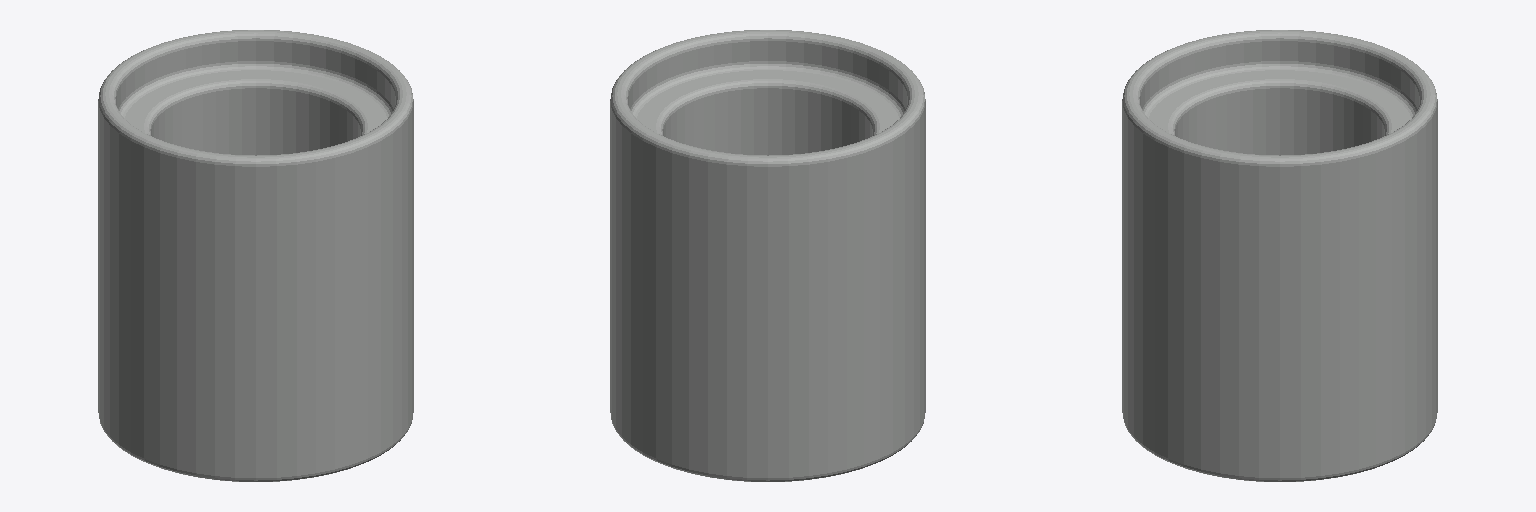
File: b1.ldr.obj
3 views of the same model, side by side, from view 1: azimuth 30°, elevation 25°; view 2: azimuth 150°, elevation 25°; view 3: azimuth 270°, elevation 25° (orthographic).
Parts seen in each view (by area): view 1: 00001_18654.dat_Mesh_18654.dat_15; view 2: 00001_18654.dat_Mesh_18654.dat_15; view 3: 00001_18654.dat_Mesh_18654.dat_15.
Boxes of the visible parts, box(x1,y1,x2,y2) form: 00001_18654.dat_Mesh_18654.dat_15: box(98, 30, 413, 481); 00001_18654.dat_Mesh_18654.dat_15: box(610, 30, 925, 481); 00001_18654.dat_Mesh_18654.dat_15: box(1122, 30, 1437, 481).
Bounding box in the file's own units: 0.175 × 0.1983 × 0.175.